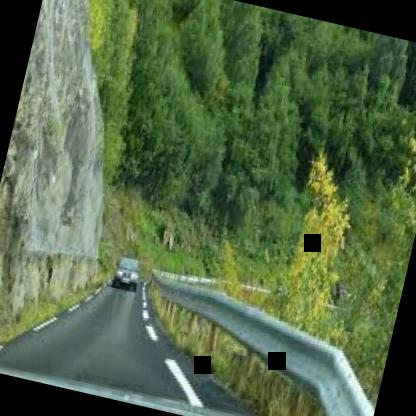car: (107, 246, 148, 304)
